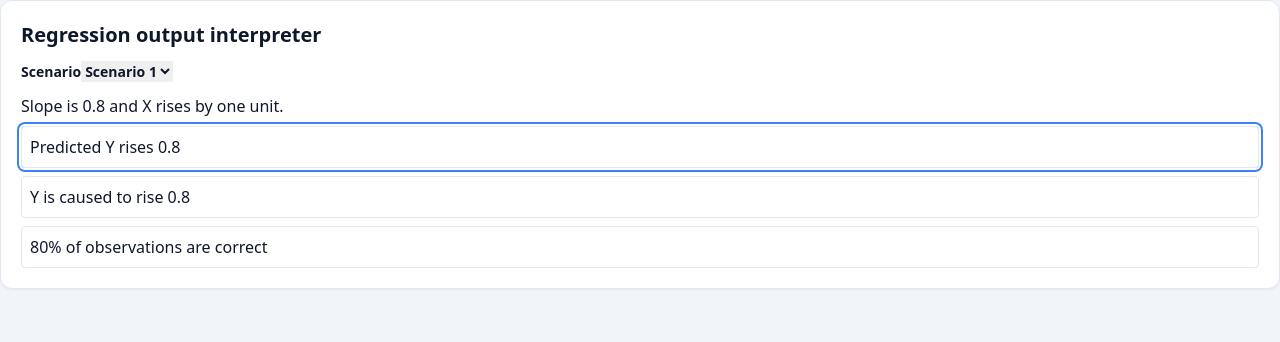
Scenario: v1.5 learning tools › supports keyboard-operable interpretation buttons
The width and height of the screenshot is (1280, 342).
Step 1. Press Enter in the button "Predicted Y rises 0.8", box [21, 126, 1259, 168]
Step 2. Click the button "Predicted Y rises 0.8" → [105, 147], box [21, 126, 1259, 168]
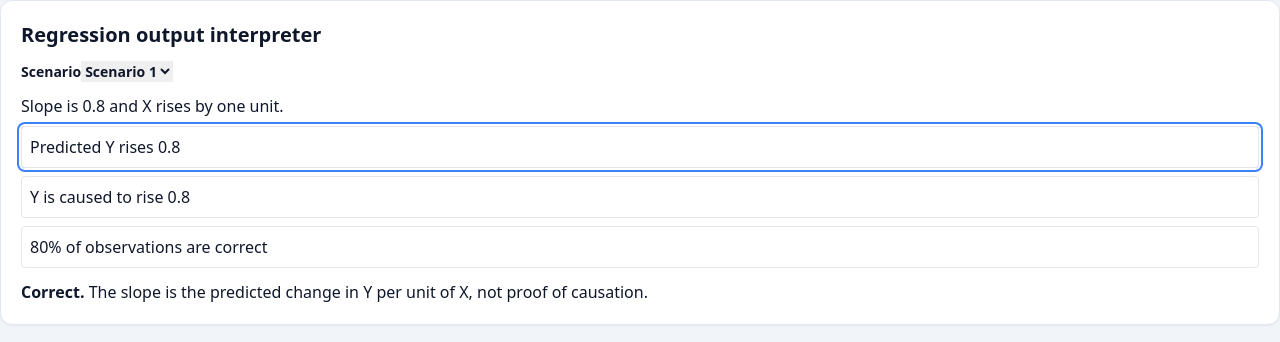
Expected: the message shows "Correct", [21, 281, 84, 303]
